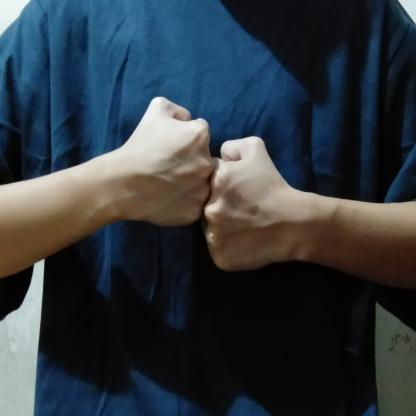brother: (94, 86, 318, 282)
